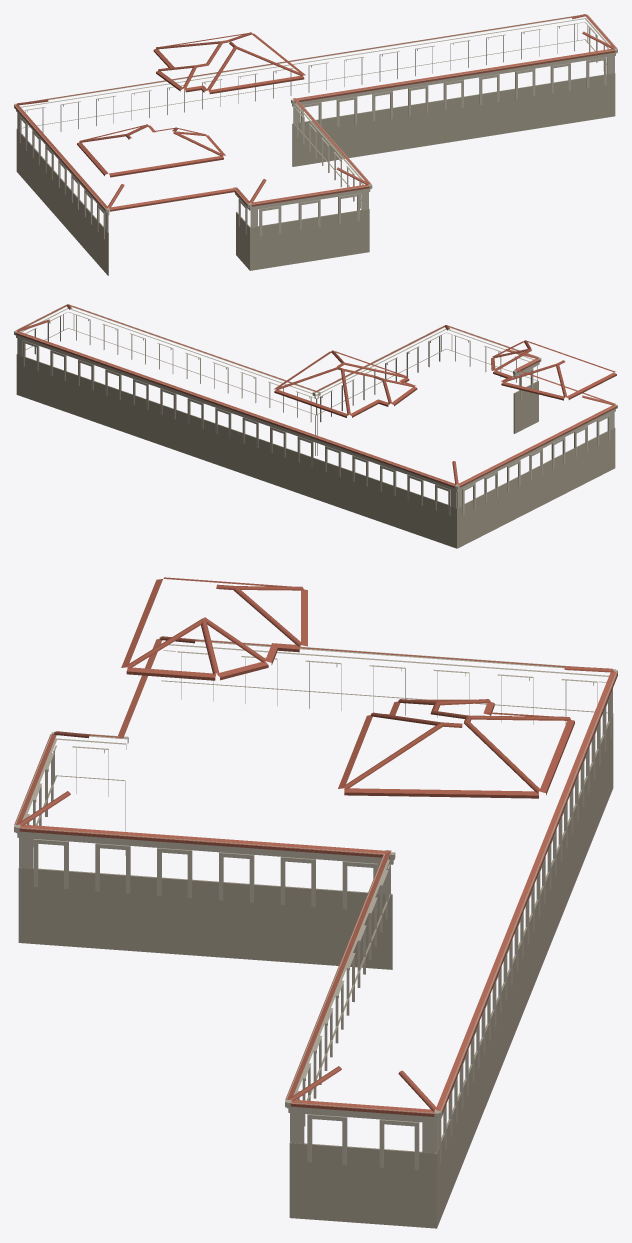
3 renders of one model, top to bottom at view 1: azimuth 30°, elevation 25°; view 2: azimuth 150°, elevation 25°; view 3: azimuth 270°, elevation 25°, orthographic. The views are drawn at different scales.
Visible parts, largest first — view 1: detail; view 2: detail; view 3: detail.
Boxes of the visible parts, x1,y1,x2,y2 form: detail: [14, 14, 617, 275]; detail: [14, 304, 617, 548]; detail: [14, 577, 617, 1228].
Bounding box in the file's own units: 52.62 × 10.85 × 28.15.
